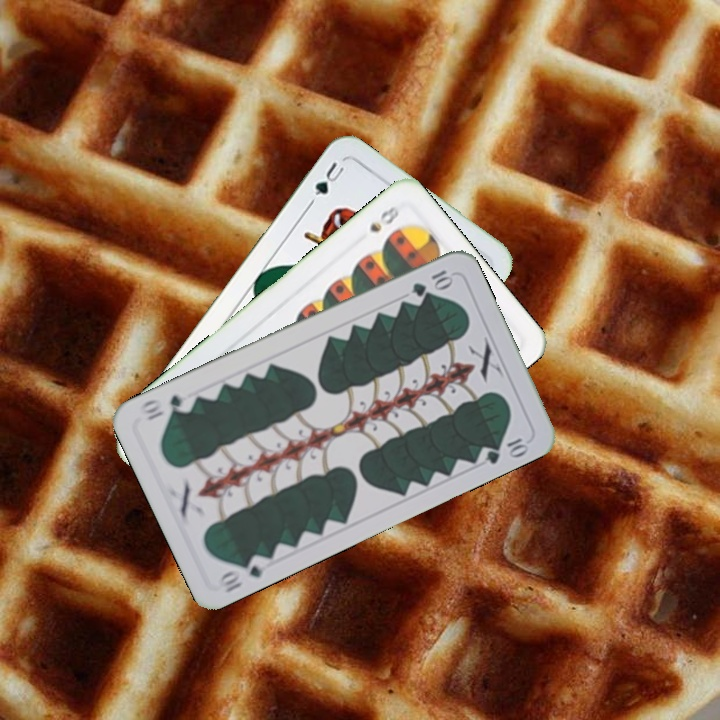G10: (216, 550, 267, 596), (407, 265, 456, 299)
GU: (310, 157, 347, 198)
S8: (365, 201, 402, 236)
